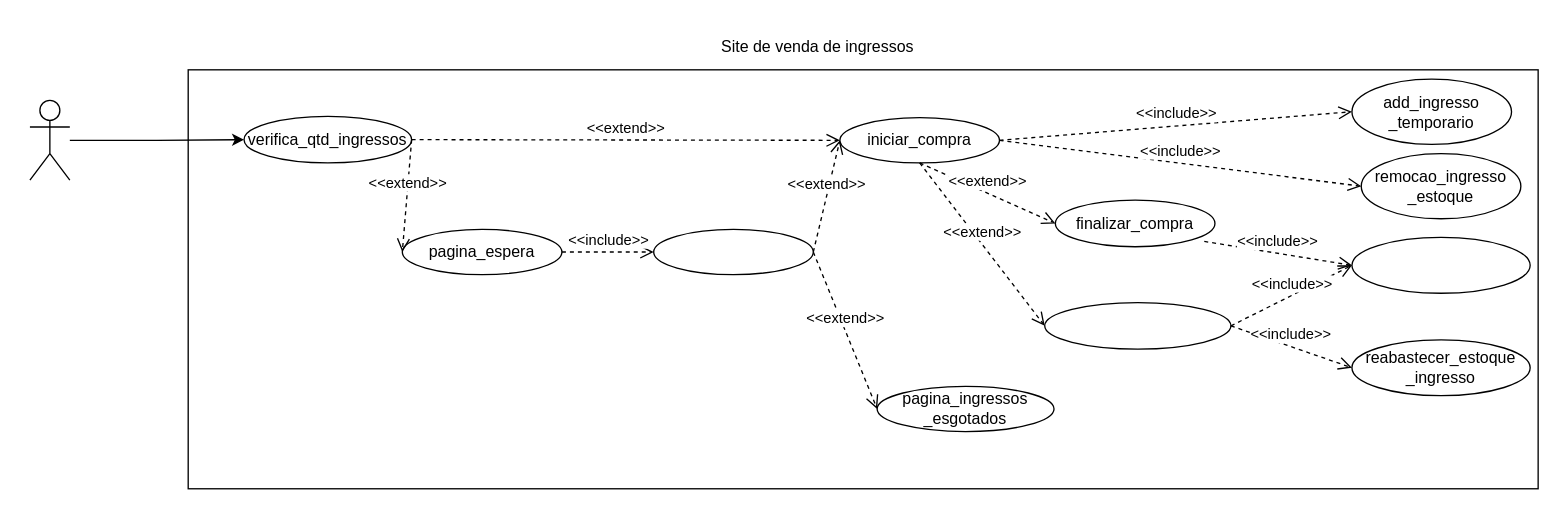
This 1561x512 diagram has some shape labels left out. The centre of each missing label's shape, as x and y in pixels:
"cancelamento_compra" goes at (x=1137, y=325).
"remover_ingresso _temporario" goes at (x=1440, y=264).
"Usuário" goes at (x=49, y=139).
"verifica_ingressos _temporario" goes at (x=732, y=251).
